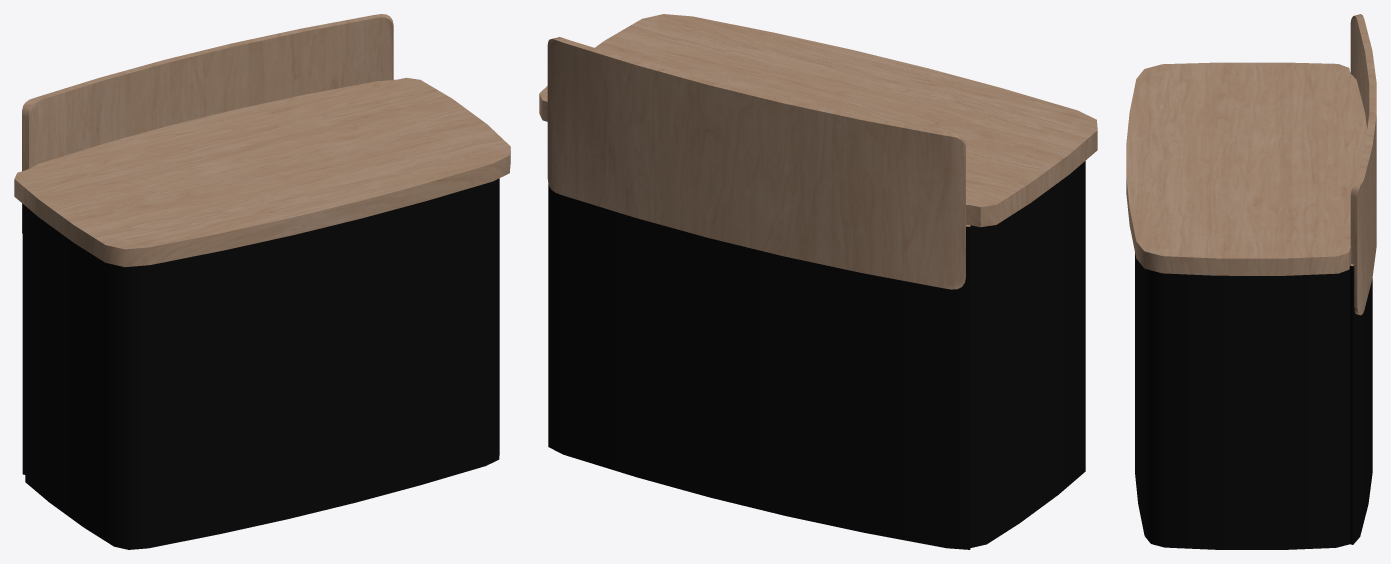
File: ULT_Counter.FBX
The picture shows the model from 3 angles, left to right: view 1: azimuth 30°, elevation 25°; view 2: azimuth 150°, elevation 25°; view 3: azimuth 270°, elevation 25°; orthographic projection. The views are drawn at different scales.
Parts seen in each view (by area): view 1: ULT_Counter; view 2: ULT_Counter; view 3: ULT_Counter.
Boxes of the visible parts, left/top/right/bottom form: ULT_Counter: left=14, top=14, right=510, bottom=549; ULT_Counter: left=539, top=14, right=1097, bottom=549; ULT_Counter: left=1126, top=14, right=1376, bottom=549.
Size of the model in its own units: 1505 by 1280 by 812.
